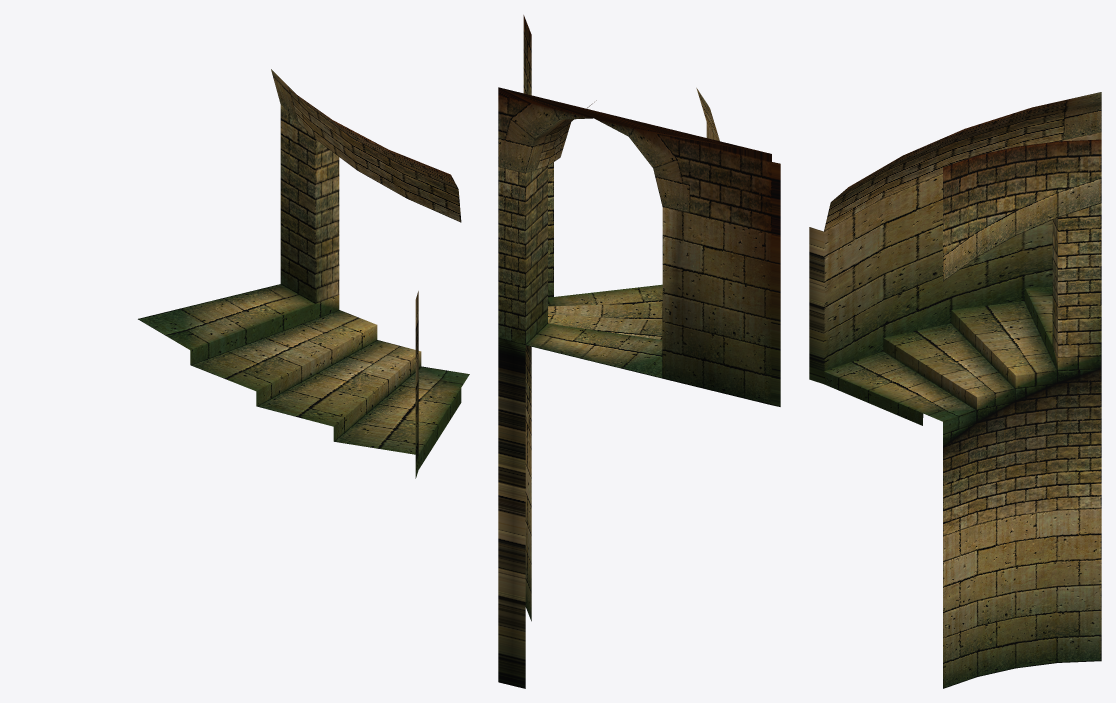
File: Mission12_Catacomb01_DPT2.glb
3 views of the same model, side by side, from view 1: azimuth 30°, elevation 25°; view 2: azimuth 150°, elevation 25°; view 3: azimuth 270°, elevation 25° (orthographic). The views are drawn at different scales.
Parts seen in each view (by area): view 1: MISSION12_CATACOMB01_DPT2; view 2: MISSION12_CATACOMB01_DPT2; view 3: MISSION12_CATACOMB01_DPT2.
Boxes of the visible parts, x1,y1,x2,y2 form: MISSION12_CATACOMB01_DPT2: [138, 69, 469, 478]; MISSION12_CATACOMB01_DPT2: [498, 15, 780, 688]; MISSION12_CATACOMB01_DPT2: [809, 92, 1101, 688].
Size of the model in its own units: 6.33 by 10.39 by 5.21.
Materials: 2 (2 with a texture image).
